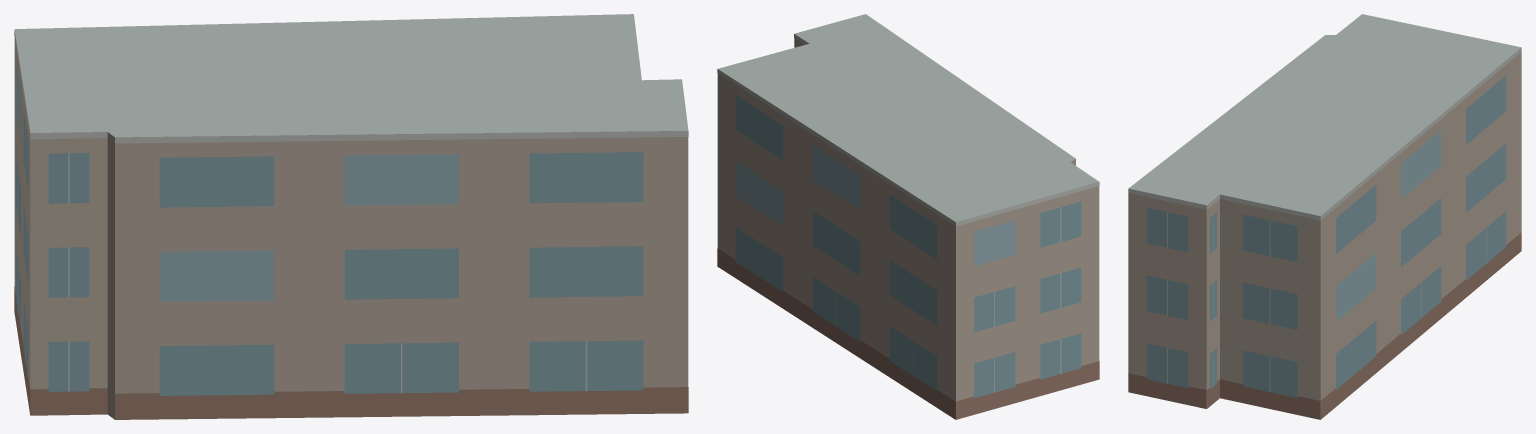
File: survey-upis-33035353.glb
The picture shows the model from 3 angles, left to right: view 1: azimuth 30°, elevation 25°; view 2: azimuth 150°, elevation 25°; view 3: azimuth 270°, elevation 25°; orthographic projection. The views are drawn at different scales.
Parts seen in each view (by area): view 1: survey-upis-33035353.tmp; view 2: survey-upis-33035353.tmp; view 3: survey-upis-33035353.tmp.
Boxes of the visible parts, x1,y1,x2,y2 form: survey-upis-33035353.tmp: (14,14,688,419); survey-upis-33035353.tmp: (717,14,1099,419); survey-upis-33035353.tmp: (1128,14,1521,419).
Size of the model in its own units: 24.06 by 11.3 by 19.78.
